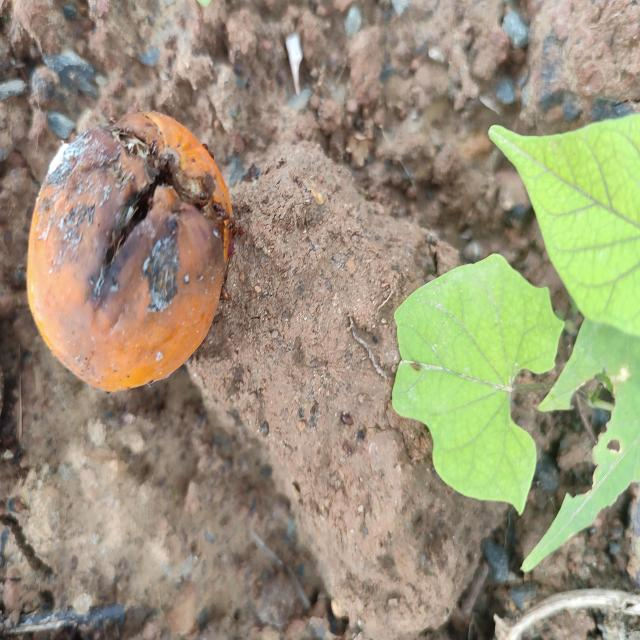damaged: (27, 112, 240, 391)
